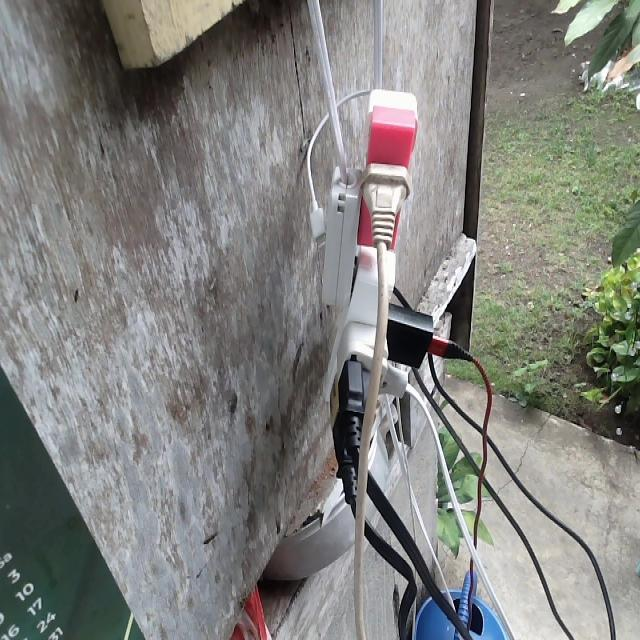-: (322, 79, 456, 481)
